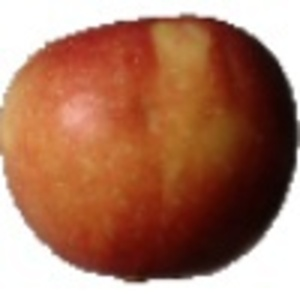maçã braeburn: (1, 12, 298, 278)
